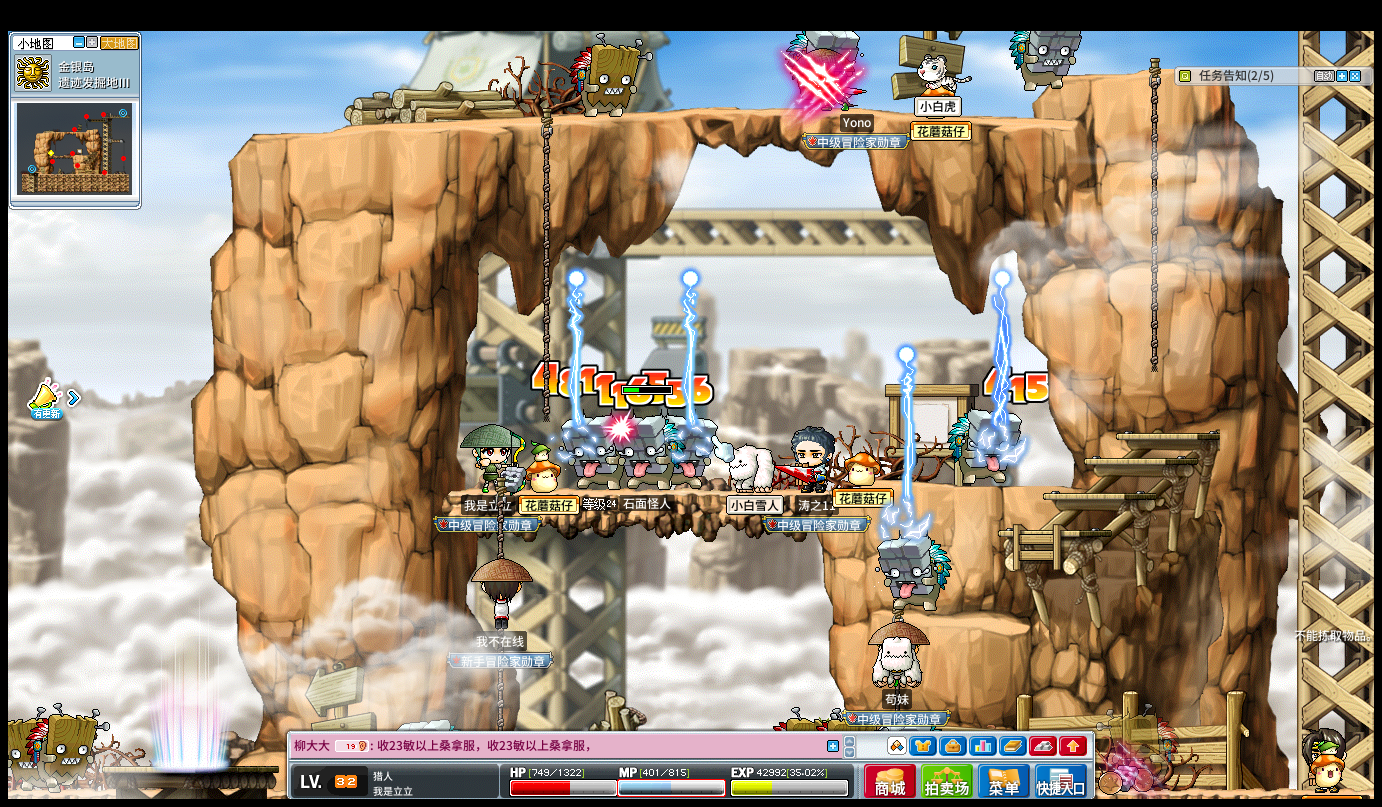floor: (251, 104, 1090, 139), (446, 487, 818, 499), (915, 612, 1029, 634), (895, 482, 1075, 494), (1059, 68, 1168, 81), (1114, 429, 1221, 441), (1077, 456, 1193, 464), (1041, 492, 1154, 500), (995, 528, 1108, 536)
monster: (19, 705, 106, 791), (569, 32, 647, 114), (1100, 707, 1175, 790), (877, 536, 951, 614), (948, 409, 1019, 486), (1009, 26, 1075, 90), (631, 413, 681, 489), (557, 414, 602, 489), (675, 415, 718, 488)
rope: (1146, 58, 1159, 377), (540, 106, 551, 427), (541, 107, 552, 363), (494, 484, 506, 560)
